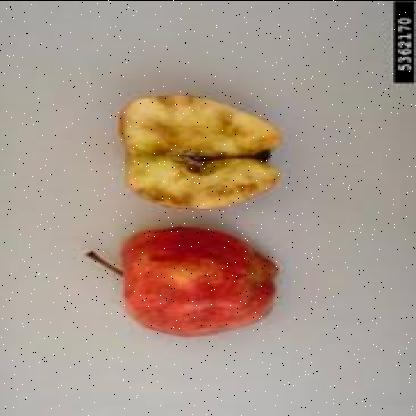damaged_apple: (118, 92, 291, 212), (116, 226, 282, 339)
